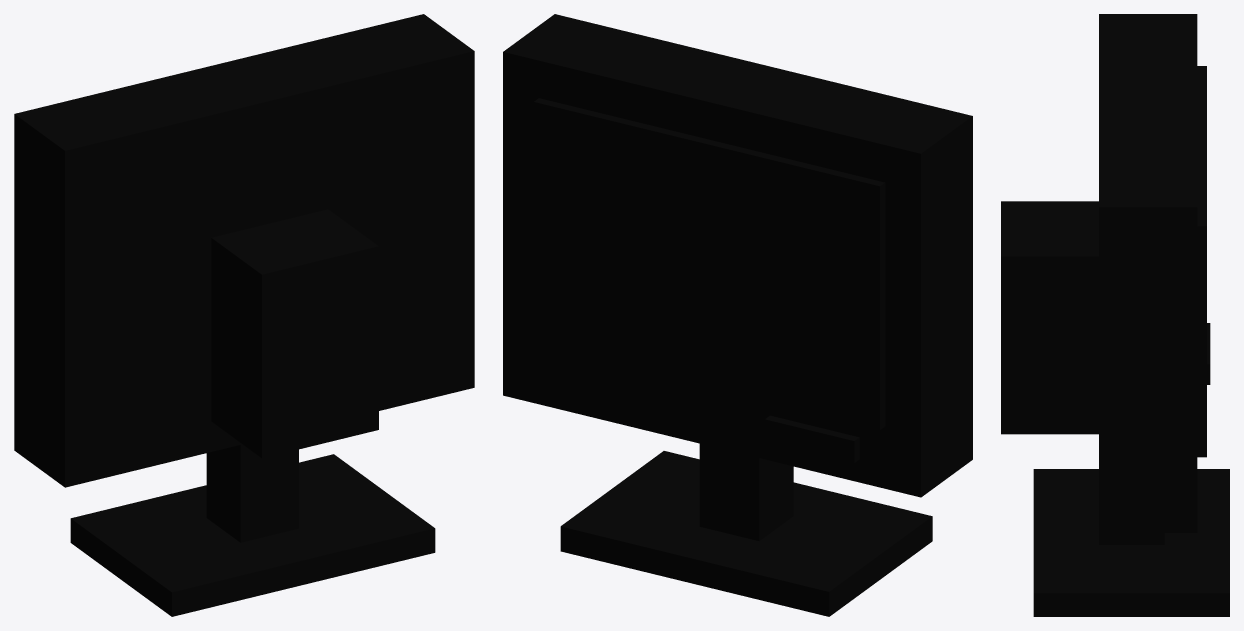
File: lab_monitor.obj
The picture shows the model from 3 angles, left to right: view 1: azimuth 30°, elevation 25°; view 2: azimuth 150°, elevation 25°; view 3: azimuth 270°, elevation 25°; orthographic projection. The views are drawn at different scales.
Size of the model in its own units: 0.8167 by 0.875 by 0.4083.
